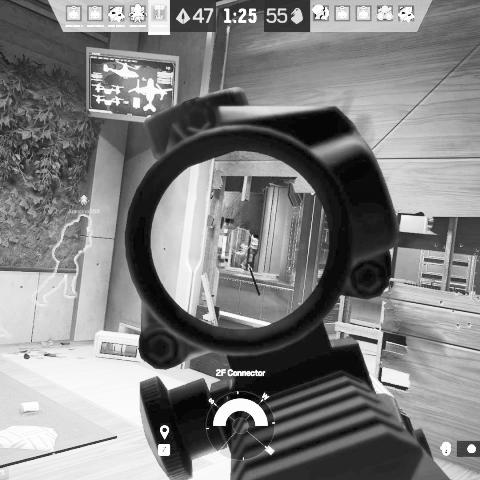Character: (236, 244, 254, 270)
Friend_label: (67, 193, 101, 215)
